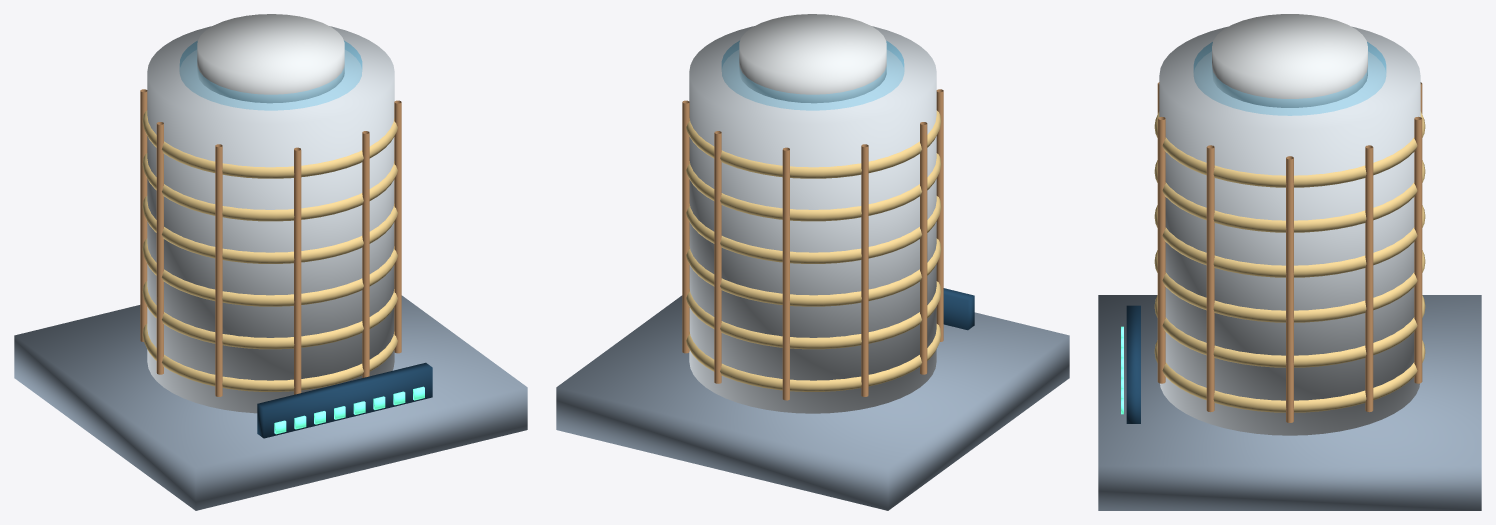
Rendered from 34_L91_PrimaryAtomicClockReference.fbx.
The picture shows the model from 3 angles, left to right: view 1: azimuth 30°, elevation 25°; view 2: azimuth 150°, elevation 25°; view 3: azimuth 270°, elevation 25°; orthographic projection. The views are drawn at different scales.
Visible parts, largest first — view 1: L91_PrimaryAtomicClockReferen_Part_0001, L91_PrimaryAtomicClockReferen_Part_0000, L91_PrimaryAtomicClockReferen_Part_0003, L91_PrimaryAtomicClockReferen_Part_0005, L91_PrimaryAtomicClockReferen_Part_0004, L91_PrimaryAtomicClockReferen_Part_0007, L91_PrimaryAtomicClockReferen_Part_0002, L91_PrimaryAtomicClockReferen_Part_0008; view 2: L91_PrimaryAtomicClockReferen_Part_0001, L91_PrimaryAtomicClockReferen_Part_0000, L91_PrimaryAtomicClockReferen_Part_0003, L91_PrimaryAtomicClockReferen_Part_0004, L91_PrimaryAtomicClockReferen_Part_0005, L91_PrimaryAtomicClockReferen_Part_0002, L91_PrimaryAtomicClockReferen_Part_0007; view 3: L91_PrimaryAtomicClockReferen_Part_0001, L91_PrimaryAtomicClockReferen_Part_0000, L91_PrimaryAtomicClockReferen_Part_0003, L91_PrimaryAtomicClockReferen_Part_0005, L91_PrimaryAtomicClockReferen_Part_0004, L91_PrimaryAtomicClockReferen_Part_0002, L91_PrimaryAtomicClockReferen_Part_0007.
Boxes of the visible parts, x1,y1,x2,y2 form: L91_PrimaryAtomicClockReferen_Part_0001: (147,26,394,413); L91_PrimaryAtomicClockReferen_Part_0000: (14,295,527,510); L91_PrimaryAtomicClockReferen_Part_0003: (142,110,397,391); L91_PrimaryAtomicClockReferen_Part_0005: (197,14,344,103); L91_PrimaryAtomicClockReferen_Part_0004: (140,89,401,396); L91_PrimaryAtomicClockReferen_Part_0007: (257,362,432,438); L91_PrimaryAtomicClockReferen_Part_0002: (179,40,362,110); L91_PrimaryAtomicClockReferen_Part_0008: (274,386,424,434); L91_PrimaryAtomicClockReferen_Part_0001: (689,26,936,413); L91_PrimaryAtomicClockReferen_Part_0000: (556,295,1069,510); L91_PrimaryAtomicClockReferen_Part_0003: (686,110,941,391); L91_PrimaryAtomicClockReferen_Part_0004: (682,89,943,400); L91_PrimaryAtomicClockReferen_Part_0005: (739,14,886,103); L91_PrimaryAtomicClockReferen_Part_0002: (721,40,904,110); L91_PrimaryAtomicClockReferen_Part_0007: (943,288,974,330); L91_PrimaryAtomicClockReferen_Part_0001: (1159,26,1420,435); L91_PrimaryAtomicClockReferen_Part_0000: (1098,295,1481,510); L91_PrimaryAtomicClockReferen_Part_0003: (1154,111,1425,412); L91_PrimaryAtomicClockReferen_Part_0005: (1212,14,1367,107); L91_PrimaryAtomicClockReferen_Part_0004: (1157,82,1422,422); L91_PrimaryAtomicClockReferen_Part_0002: (1193,42,1386,115); L91_PrimaryAtomicClockReferen_Part_0007: (1126,305,1140,423).
Size of the model in its own units: 2.85 by 2.95 by 2.7.
